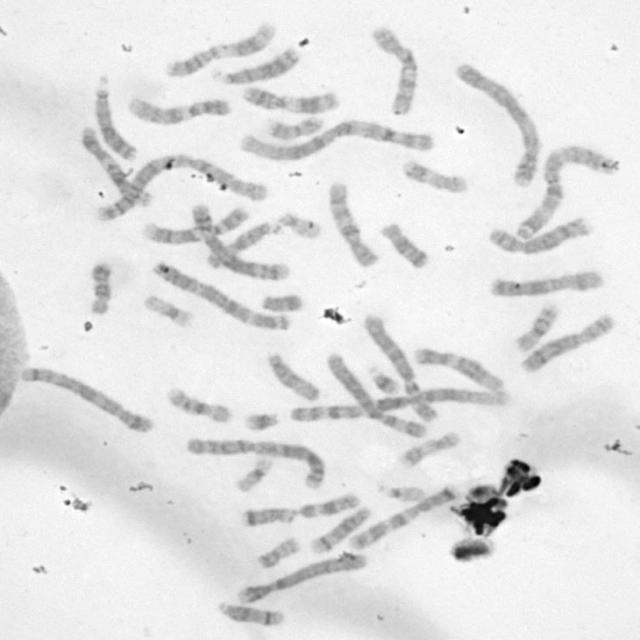A1: (236, 117, 436, 162), (288, 387, 512, 422)
A2: (92, 153, 268, 223), (184, 436, 327, 490)
A3: (150, 261, 292, 332), (514, 146, 622, 239)
B4: (452, 61, 543, 189), (237, 553, 370, 604)
B5: (17, 366, 156, 434), (190, 201, 298, 282)
C10: (327, 180, 379, 268), (370, 26, 420, 117)
C11: (161, 21, 277, 79), (241, 83, 342, 114)
C12: (79, 123, 153, 210), (412, 347, 507, 392)
C6: (324, 351, 428, 438), (362, 313, 439, 422)
C7: (346, 483, 458, 551), (240, 492, 360, 527)
C8: (518, 312, 618, 373), (488, 214, 596, 255)
C9: (138, 206, 252, 244), (124, 95, 235, 125)
D13: (92, 86, 140, 162), (210, 46, 301, 86)
D14: (310, 504, 372, 554), (216, 601, 285, 629)
D15: (203, 220, 284, 269), (265, 351, 323, 403)
E16: (163, 385, 232, 424), (513, 302, 561, 353)
E17: (399, 158, 470, 196), (397, 429, 462, 467)
E18: (380, 220, 430, 269), (89, 262, 113, 316)
F19: (140, 295, 198, 329), (236, 456, 273, 495)
F20: (256, 536, 299, 570), (268, 116, 326, 141)
G21: (366, 363, 403, 395), (242, 412, 283, 433)
G22: (274, 209, 324, 241), (376, 482, 427, 503)
X: (490, 270, 610, 300)
Y: (259, 293, 306, 312)
